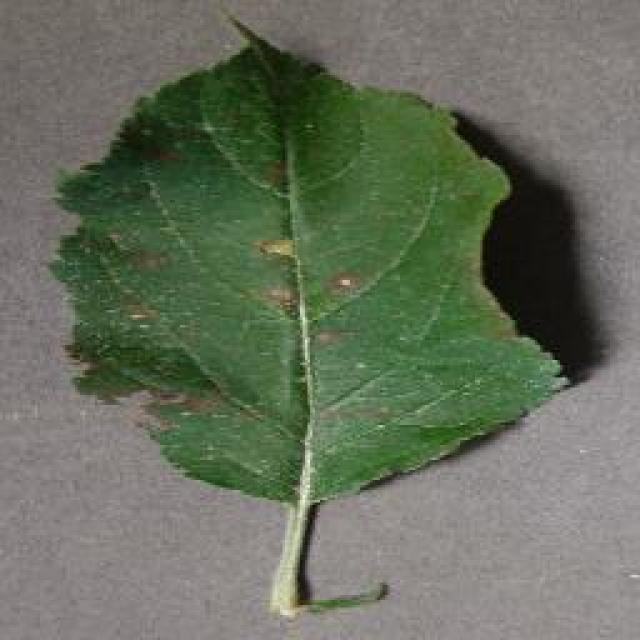apple healthy: (45, 8, 573, 618)
